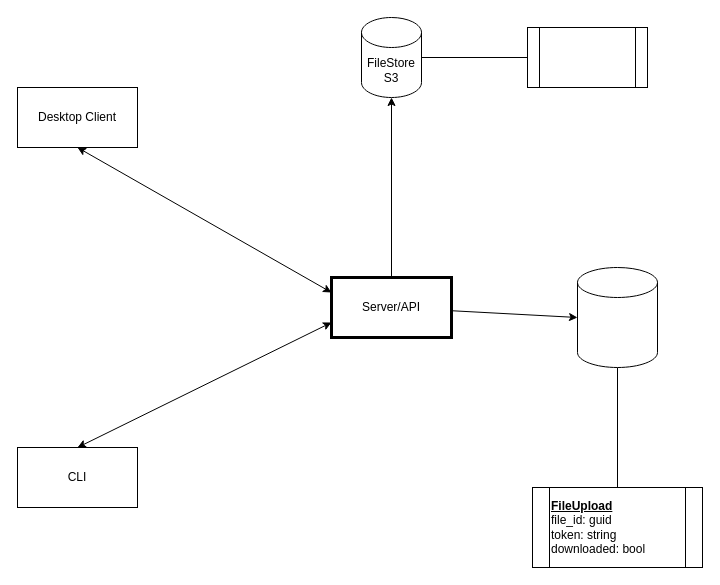
The diagram is 720 pixels wide and 585 high, and some of its shapes have lost their labels. The shapes that lost their labels are listed below. From the top down, each one's centre as x and y in pixels, then its label:
At (x=587, y=57): "File filename: guid".
At (x=617, y=317): "Database sqld".
